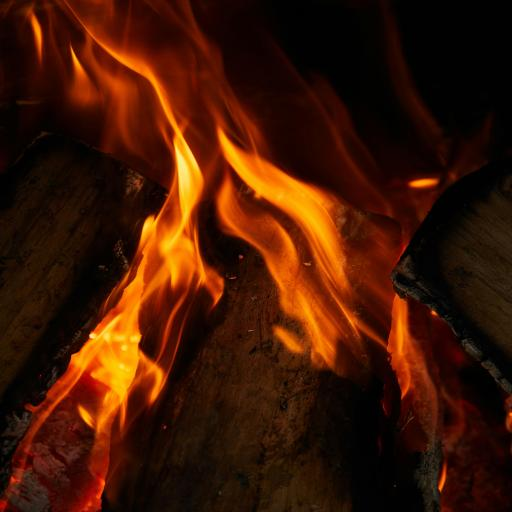campfire: (0, 1, 512, 512)
